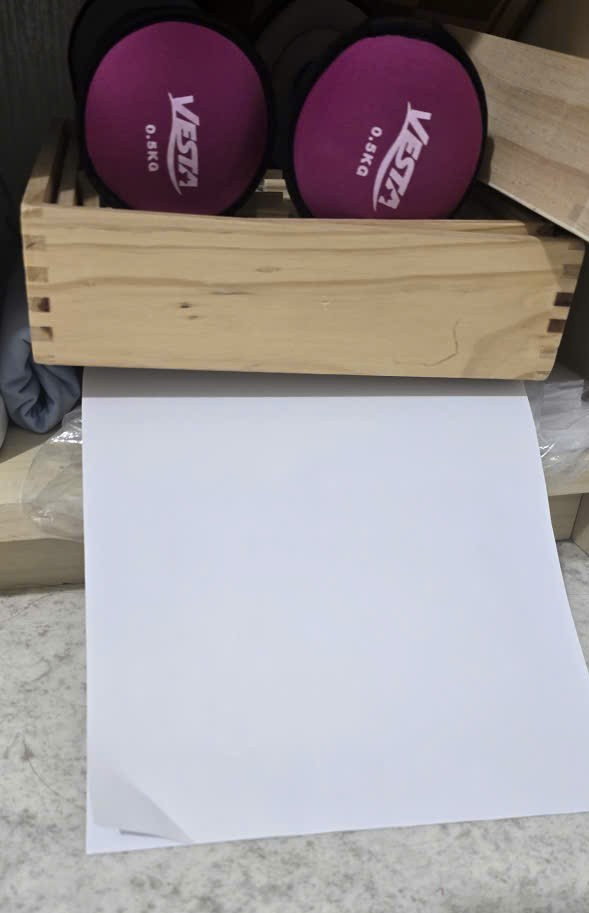paper: (78, 375, 589, 855)
